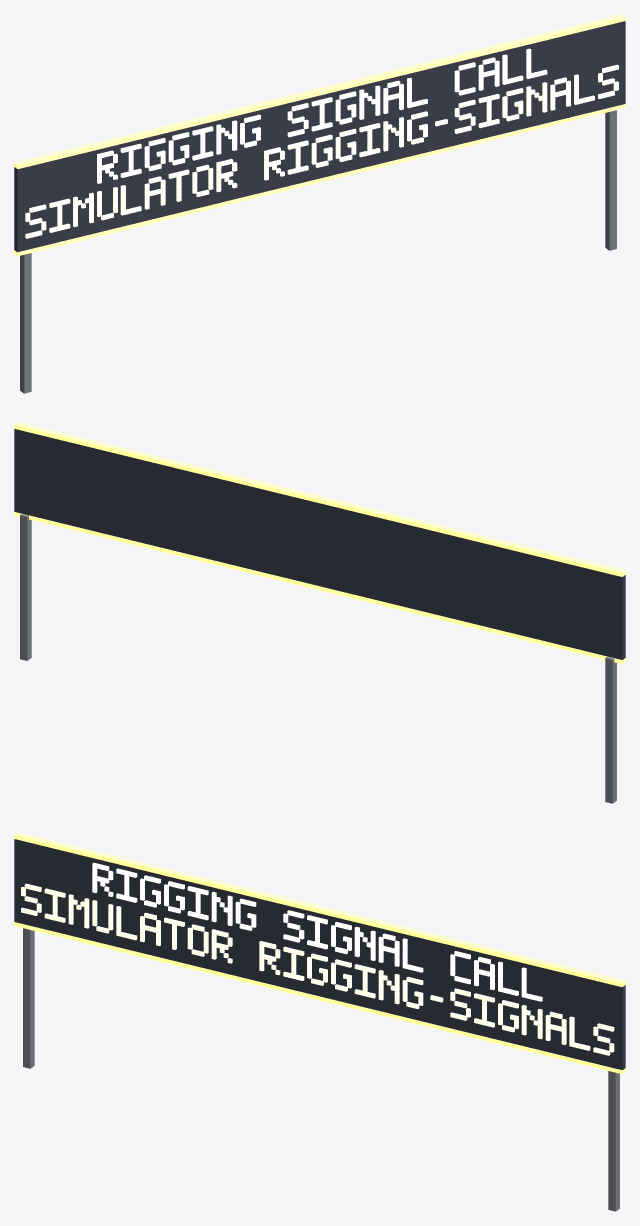
File: wing-sign-rigging-signals.glb
3 views of the same model, one above another, from view 1: azimuth 30°, elevation 25°; view 2: azimuth 150°, elevation 25°; view 3: azimuth 330°, elevation 25° (orthographic).
Visible parts, largest first — view 1: Sign · Rigging Signal Call; view 2: Sign · Rigging Signal Call; view 3: Sign · Rigging Signal Call.
Boxes of the visible parts, x1=… form: Sign · Rigging Signal Call: x1=14, y1=14, x2=625, y2=393; Sign · Rigging Signal Call: x1=14, y1=422, x2=625, y2=803; Sign · Rigging Signal Call: x1=14, y1=832, x2=625, y2=1211.
Bounding box in the file's own units: 13.26 × 4.81 × 0.252.
